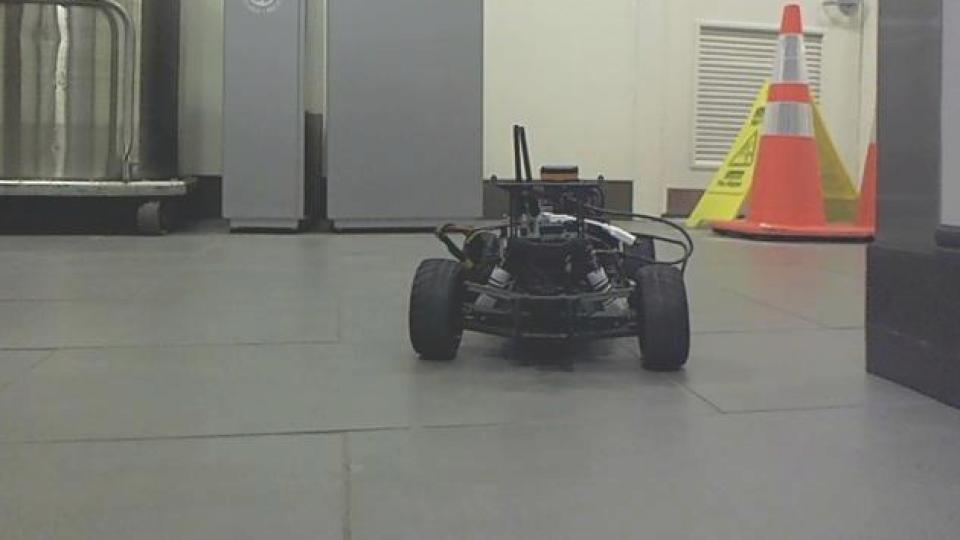car: (405, 122, 698, 374)
